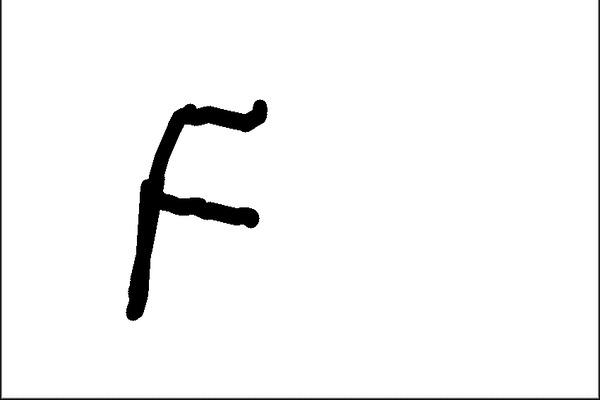F: (119, 94, 274, 323)
